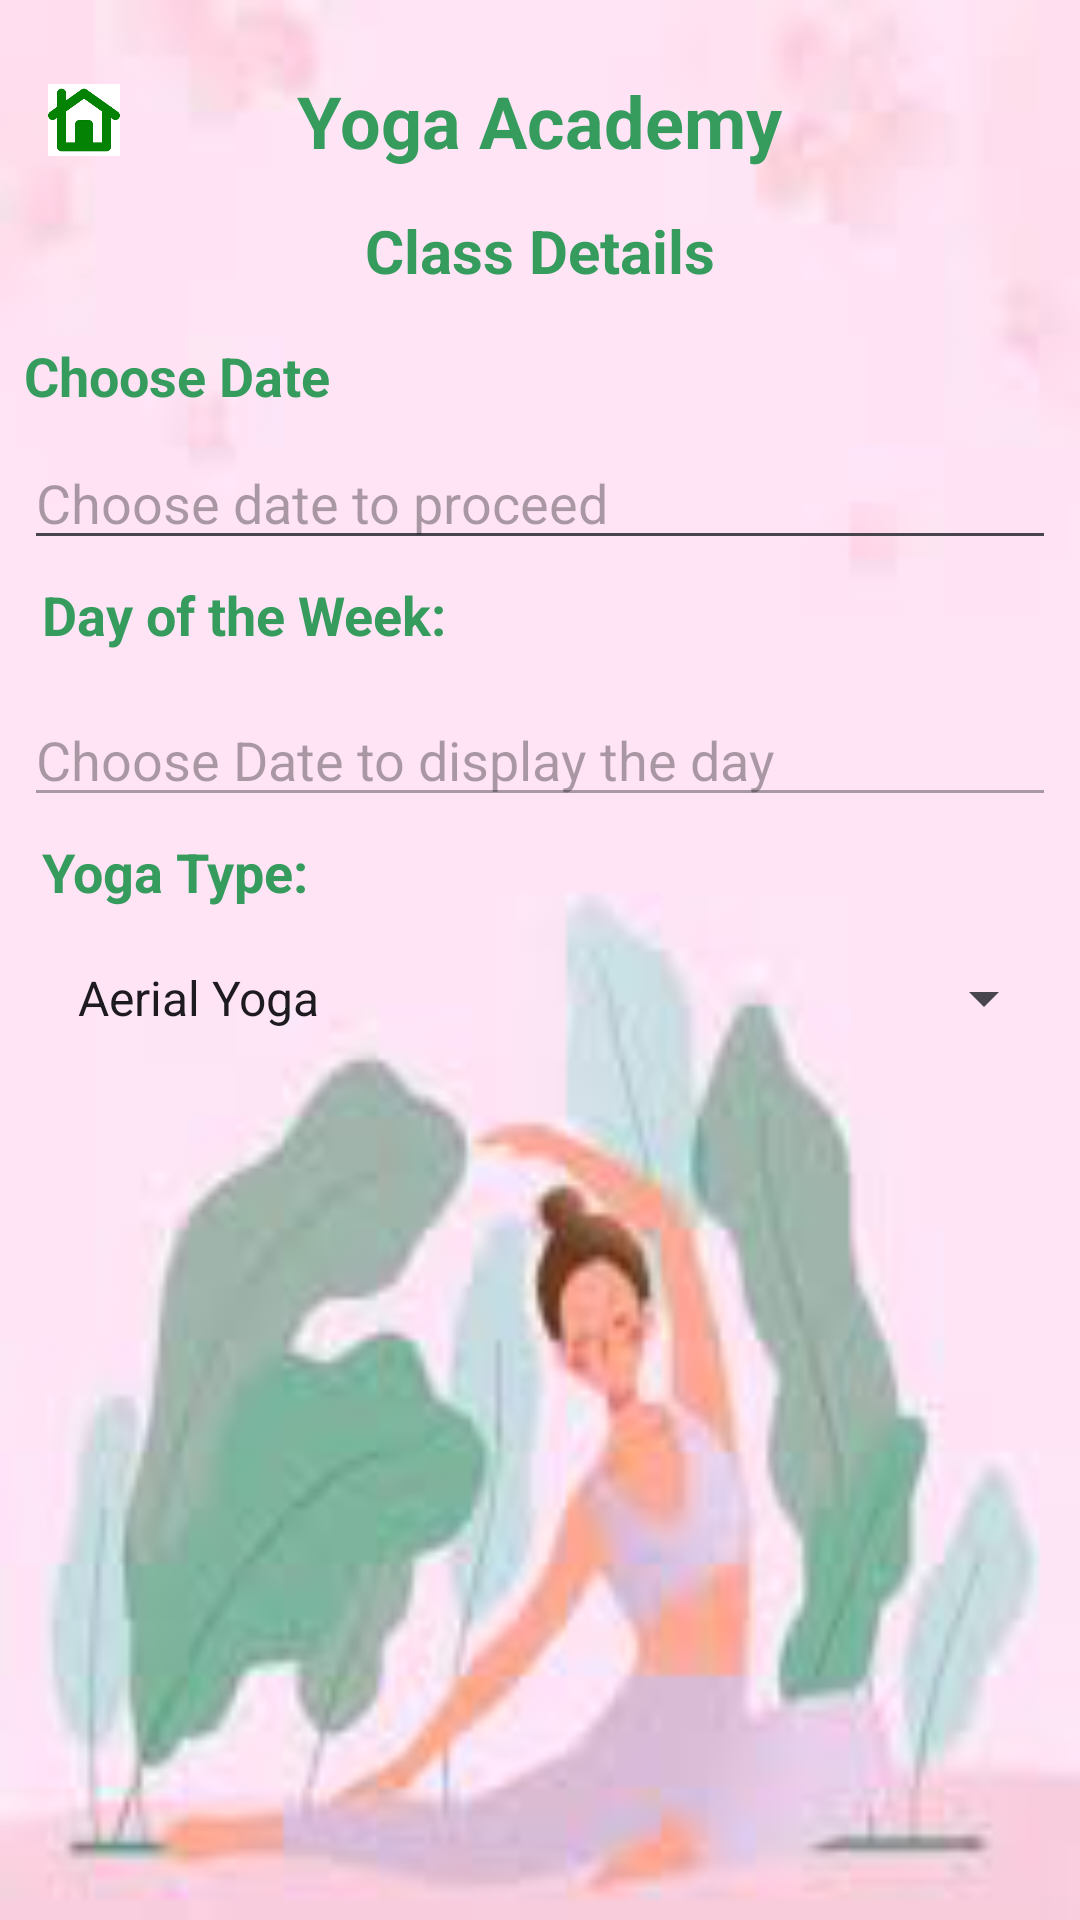

Screen size 1080px×1920px. Icon name, then its center in pixels as (x,y):
Home Button: (84,120)
